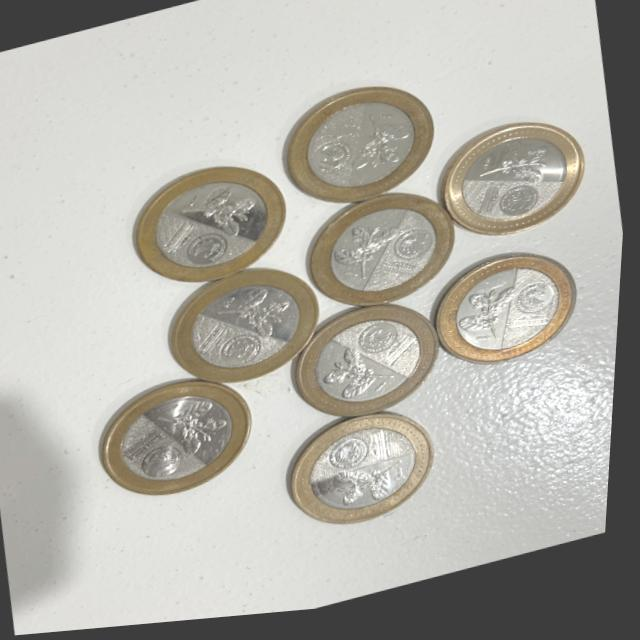20_New_Back: (324, 204, 410, 296), (183, 168, 271, 250), (443, 283, 527, 364)
